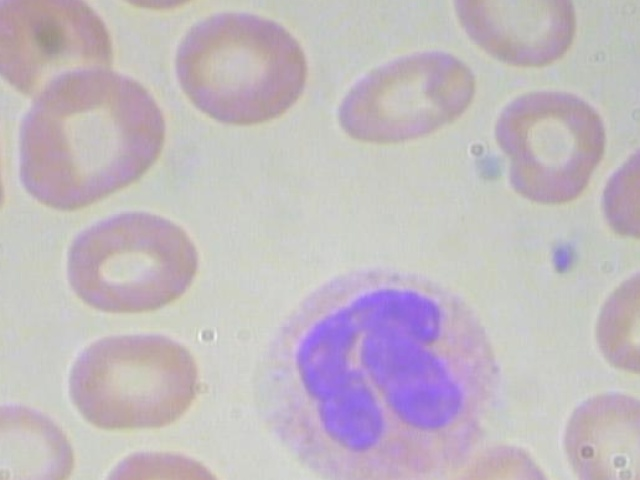Platelets: (543, 237, 593, 279)
RBC: (11, 68, 172, 216), (54, 201, 206, 323), (58, 319, 210, 441), (332, 31, 484, 152), (476, 82, 628, 203), (162, 8, 314, 129), (445, 0, 597, 70), (564, 383, 640, 480), (586, 256, 640, 378), (0, 397, 79, 480), (601, 128, 640, 248)
WBC: (238, 248, 512, 480)
